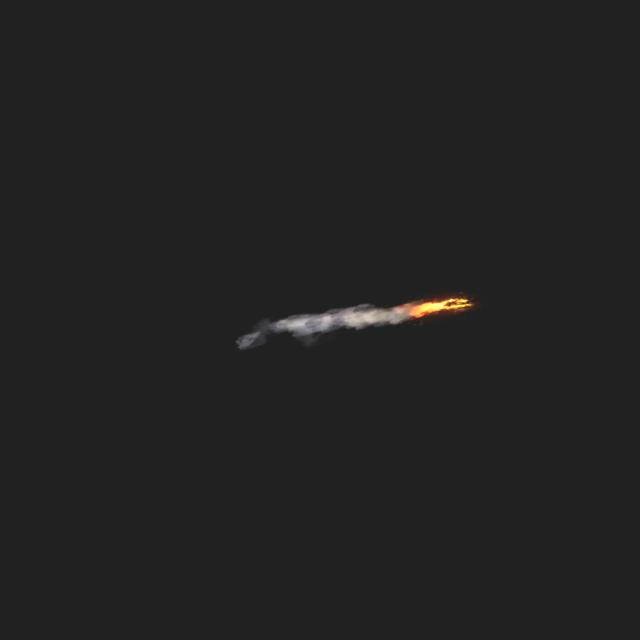fire: (408, 287, 473, 319)
smoke: (230, 290, 406, 357)
